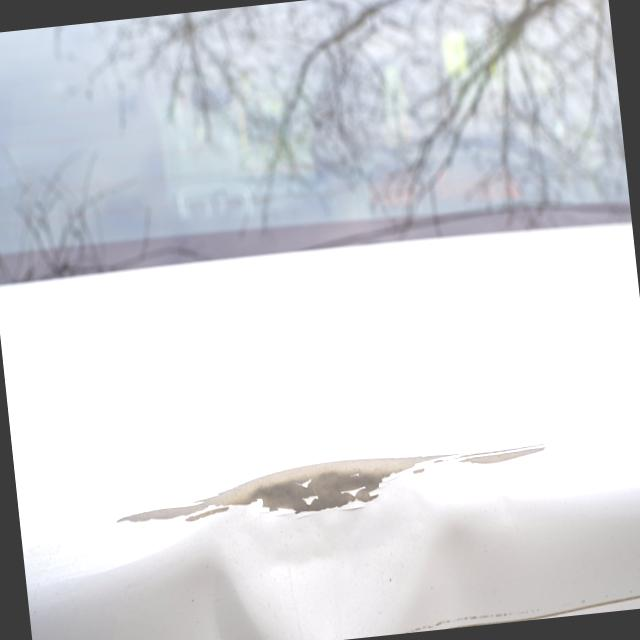Cabossage: (189, 469, 478, 640)
Rayure: (105, 415, 568, 556)
